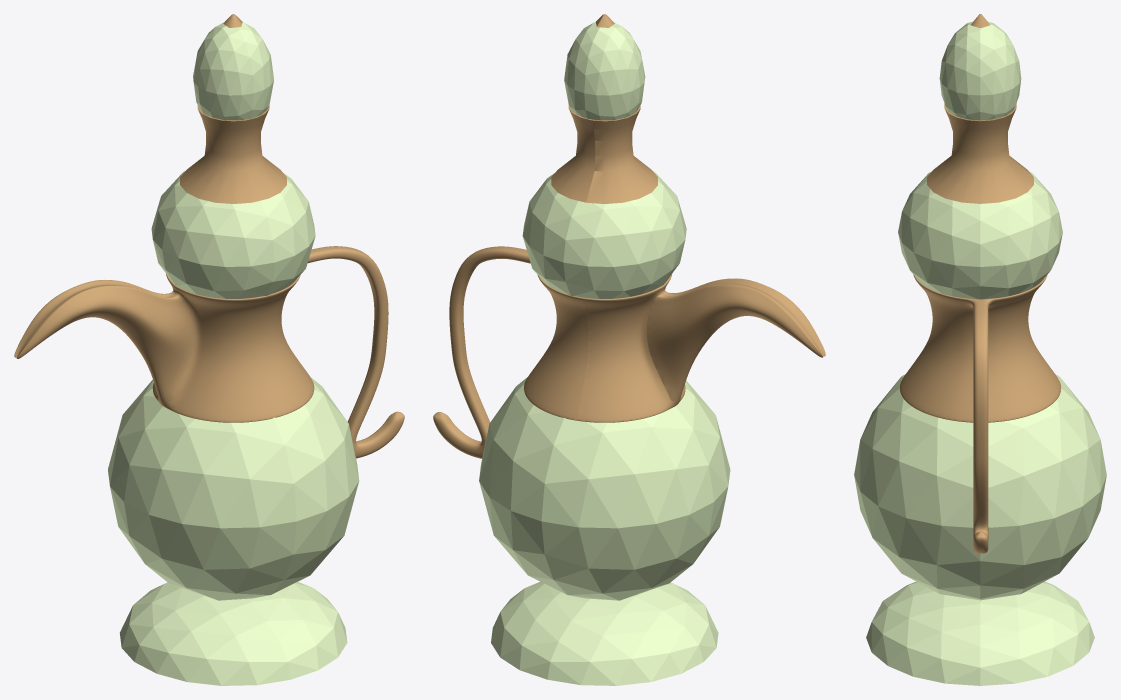
The picture shows the model from 3 angles, left to right: view 1: azimuth 30°, elevation 25°; view 2: azimuth 150°, elevation 25°; view 3: azimuth 270°, elevation 25°; orthographic projection.
Visible parts, largest first — view 1: GeoSphere1, Cylinder00, GeoSphere0, GeoSphere2, GeoSphere3, Cylinder01; view 2: GeoSphere1, Cylinder00, GeoSphere0, GeoSphere2, GeoSphere3, Cylinder01; view 3: GeoSphere1, GeoSphere0, Cylinder00, GeoSphere2, GeoSphere3, Cylinder01.
Part boxes in pixels (x1,y1,x2,y2): GeoSphere1: [108, 377, 359, 600]; Cylinder00: [14, 246, 404, 458]; GeoSphere0: [119, 581, 347, 685]; GeoSphere2: [151, 171, 315, 298]; GeoSphere3: [193, 22, 273, 120]; Cylinder01: [180, 105, 286, 203]; GeoSphere1: [479, 377, 730, 600]; Cylinder00: [433, 246, 825, 458]; GeoSphere0: [491, 581, 718, 685]; GeoSphere2: [522, 171, 686, 298]; GeoSphere3: [564, 22, 645, 120]; Cylinder01: [551, 105, 657, 203]; GeoSphere1: [854, 374, 1106, 600]; GeoSphere0: [866, 581, 1094, 685]; Cylinder00: [899, 274, 1061, 553]; GeoSphere2: [898, 171, 1062, 299]; GeoSphere3: [939, 21, 1021, 120]; Cylinder01: [927, 103, 1033, 203].
Size of the model in its own units: 2.23 by 3.41 by 1.25.
